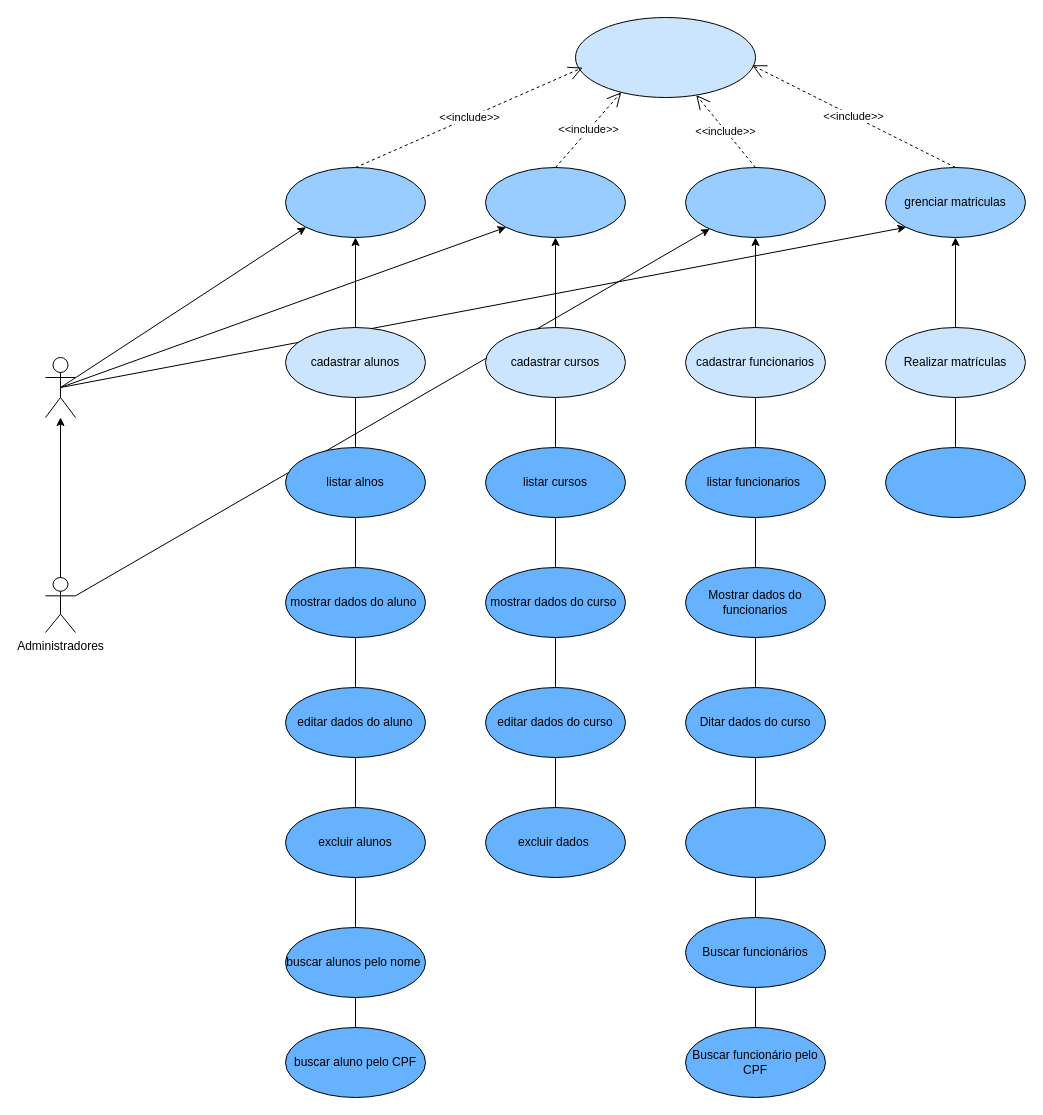
The diagram is 1043 pixels wide and 1115 high, and some of its shapes have lost their labels. The shapes that lost their labels are listed below. From the top down, each one's centre as x and y in pixels, then its label:
[665,57]: Login de usuário
[355,202]: gerenciar alunos
[555,202]: gerenciar cursos
[755,202]: gerenciar funcionarios
[60,387]: Colaboradores
[955,482]: excluir matrículas
[755,842]: excluir funcionários
